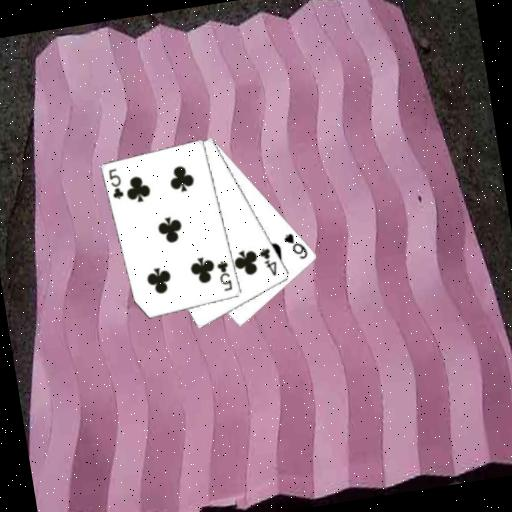4C: (255, 244, 280, 280)
5C: (213, 257, 235, 293), (105, 165, 126, 202)
6S: (280, 228, 310, 264)
